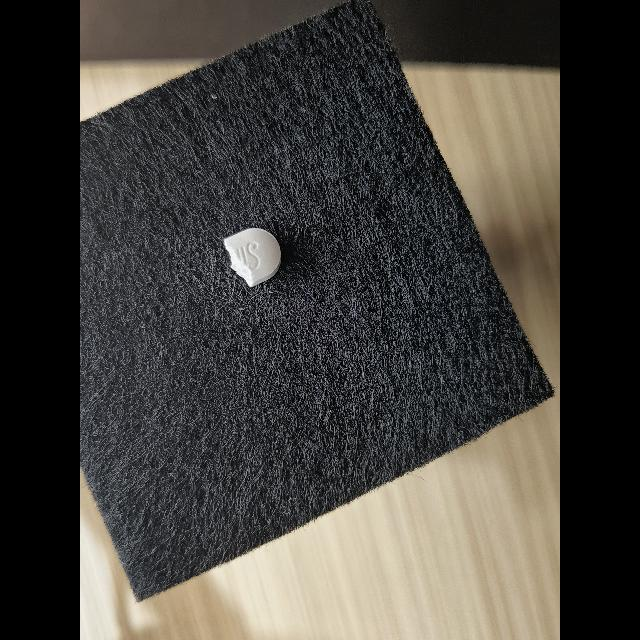Chipped Pill: (224, 228, 281, 287)
